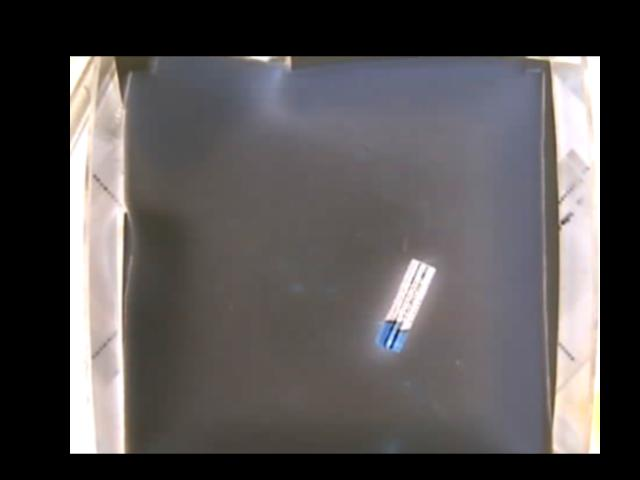Battery: (378, 256, 435, 353)
